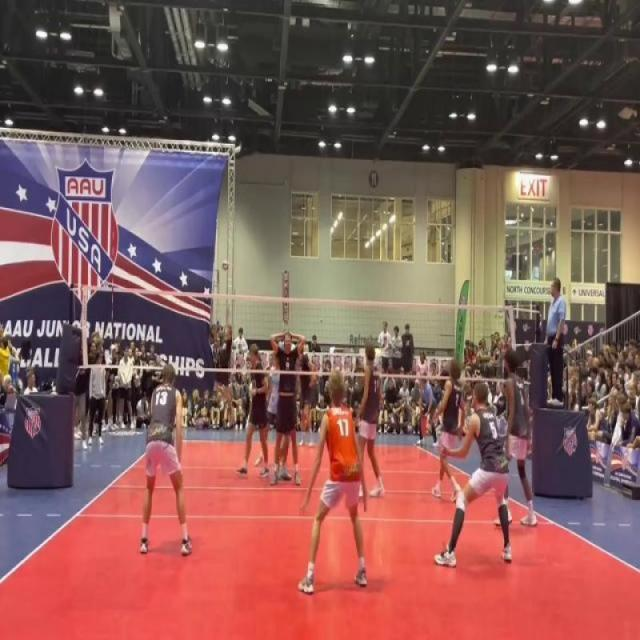volleyball: (220, 259, 230, 274)
